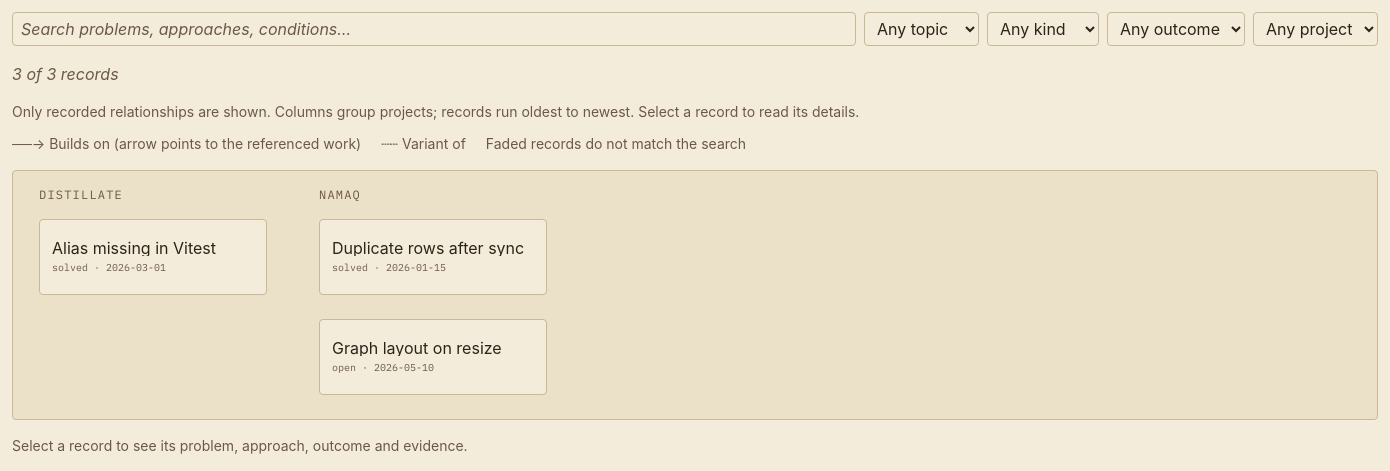
Test: RecordSearch graph mode › retains all graph nodes when Filter by topic narrows the matches
Select "data-sync" in the dropdown named "Filter by topic": (922, 29) [864,12,979,46]
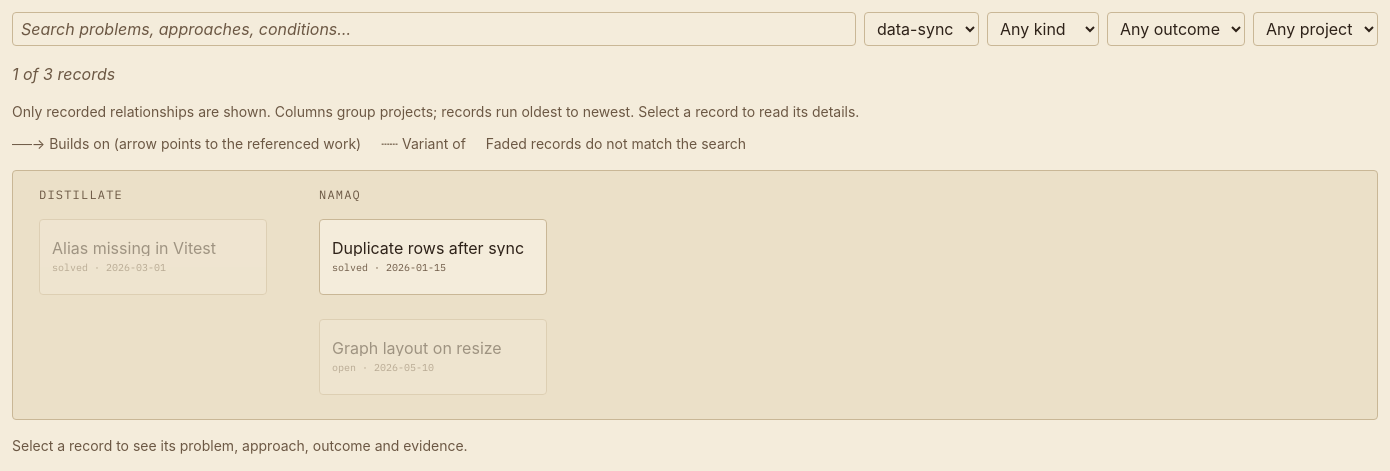
Expected: the text "1 of 3 records" is shown, [12,64,115,84]
